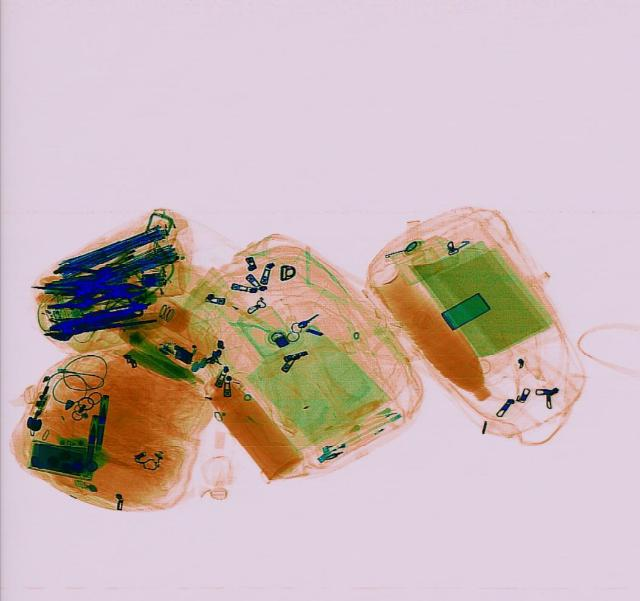Pliers: (50, 276, 140, 309), (49, 259, 120, 291)
Wrench: (44, 298, 144, 343)
